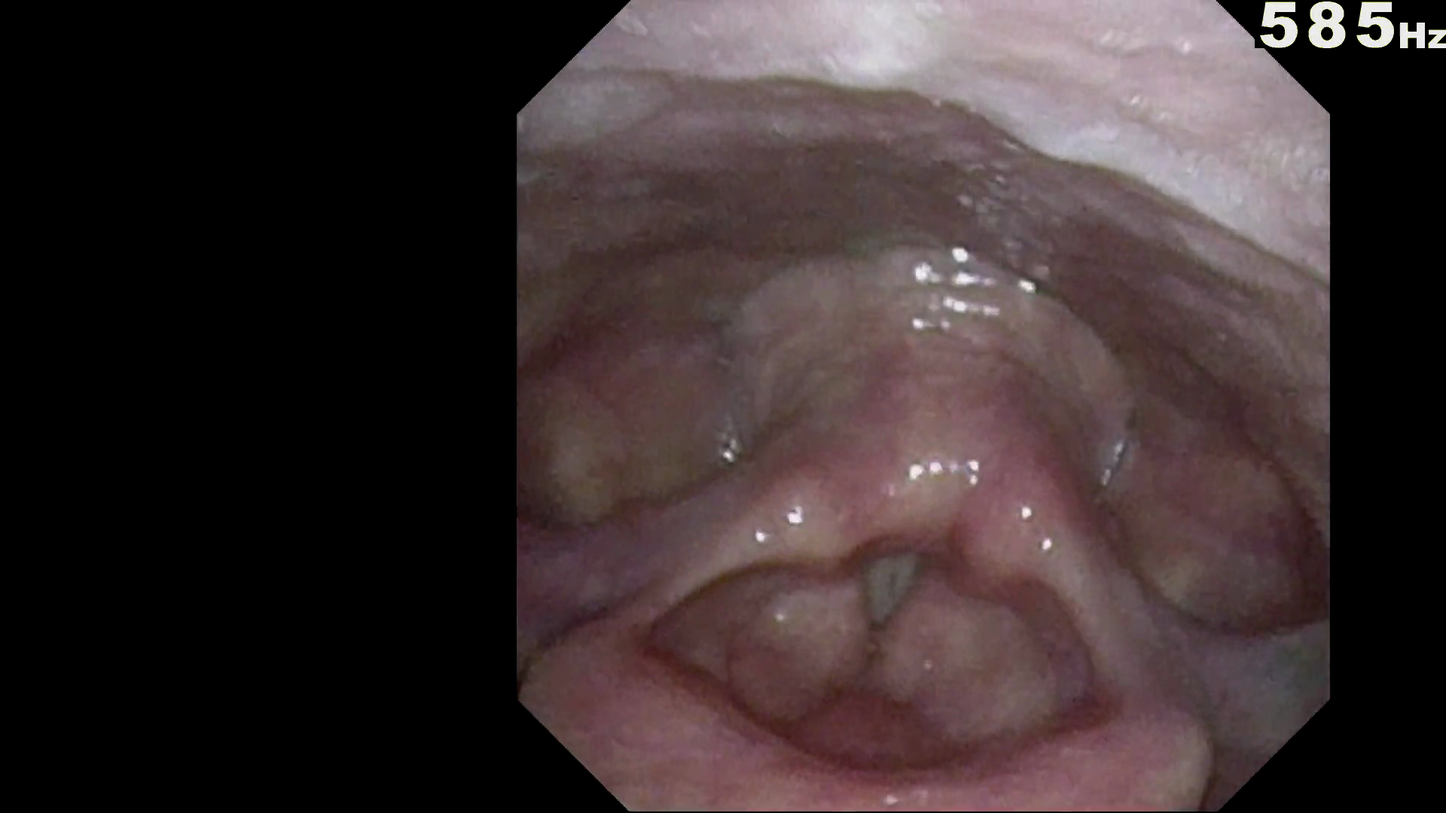epiglottis: (604, 572, 1220, 789)
trachea: (843, 501, 959, 636)
